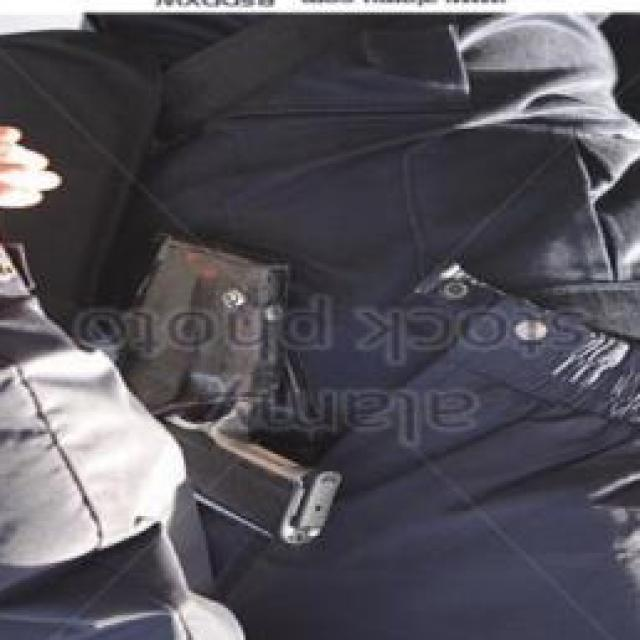pistol: (103, 230, 350, 550)
